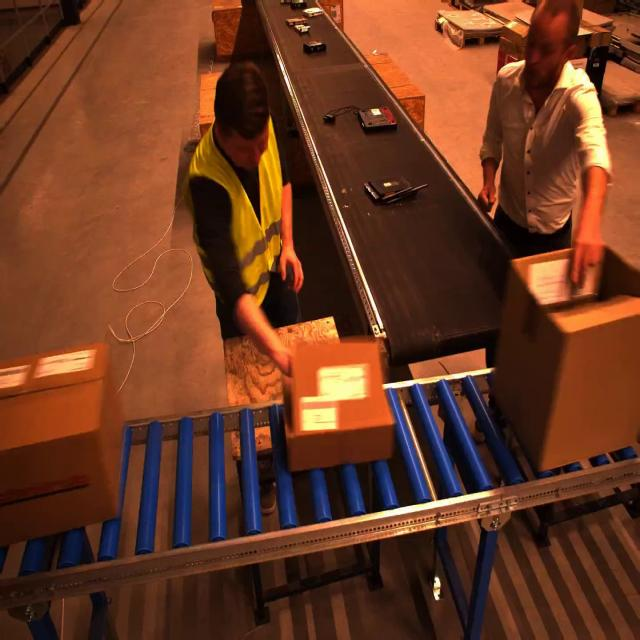box: (493, 249, 638, 469), (1, 345, 125, 544), (289, 341, 390, 467)
product: (363, 175, 425, 205), (357, 107, 398, 132), (303, 40, 327, 54), (285, 16, 308, 28), (302, 7, 323, 18), (294, 23, 310, 34), (291, 0, 307, 9), (323, 113, 335, 123)
